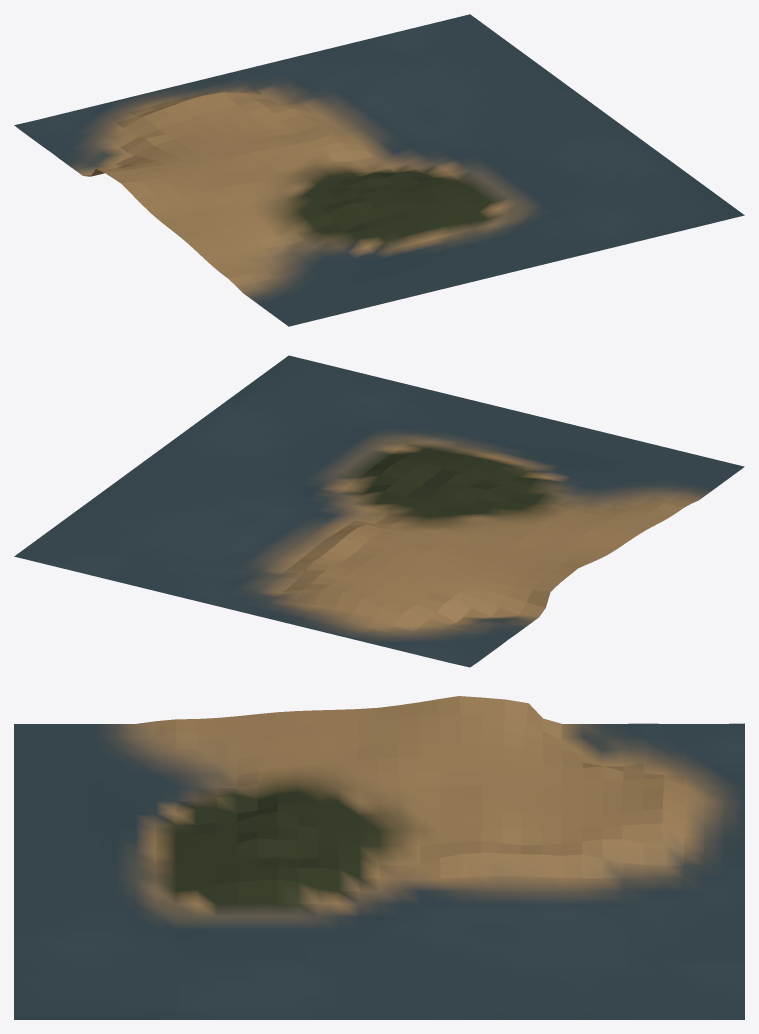
File: MAPA 1 Y 2.glb
3 views of the same model, one above another, from view 1: azimuth 30°, elevation 25°; view 2: azimuth 150°, elevation 25°; view 3: azimuth 270°, elevation 25° (orthographic). The views are drawn at different scales.
Parts seen in each view (by area): view 1: MAPA 1 Y 2; view 2: MAPA 1 Y 2; view 3: MAPA 1 Y 2.
Boxes of the visible parts, <box> form: MAPA 1 Y 2: <box>14,14,744,326</box>; MAPA 1 Y 2: <box>14,355,744,667</box>; MAPA 1 Y 2: <box>14,696,744,1019</box>.
Bounding box in the file's own units: 42.63 × 2.18 × 44.44.
